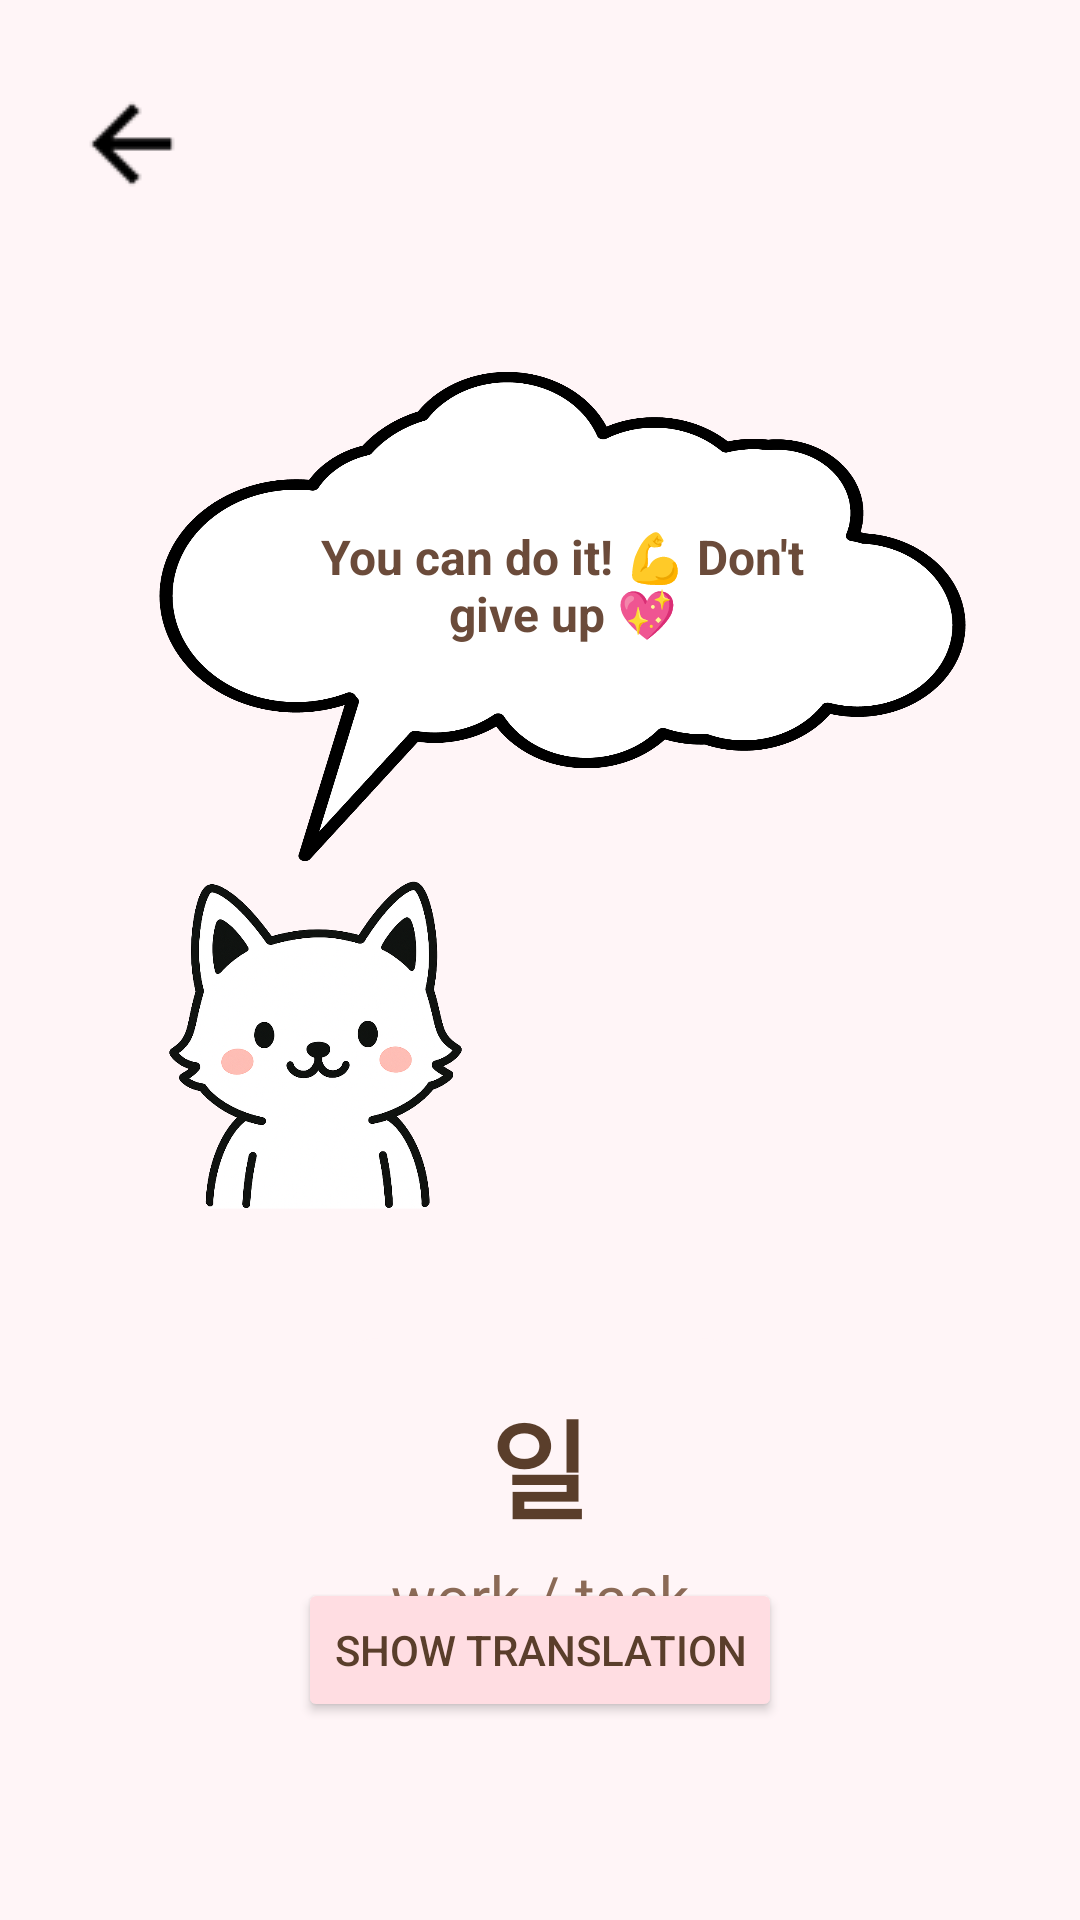

Icons on this 1080 x 1920 Android screen, each with its box as (x1, y1, x2, y2):
fox study: (169, 881, 462, 1208)
